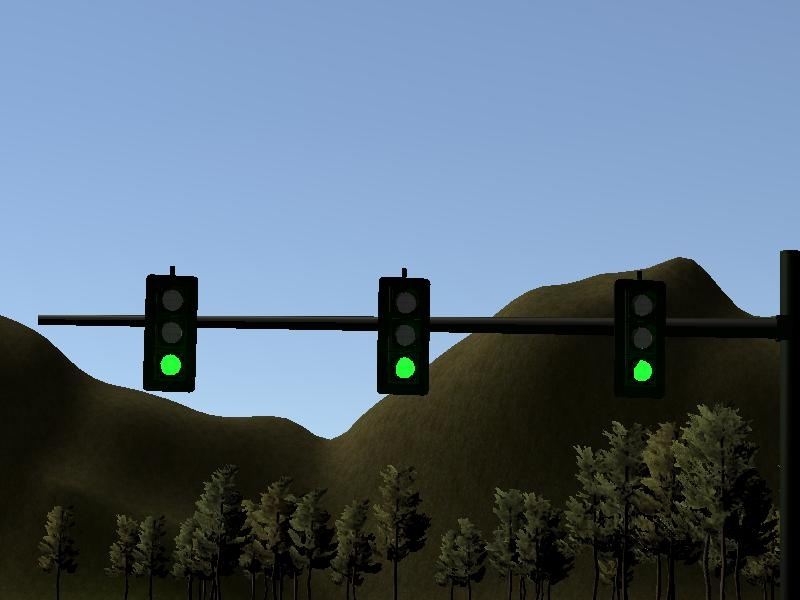GREEN: (607, 272, 672, 401), (141, 267, 203, 400), (373, 272, 434, 402)
